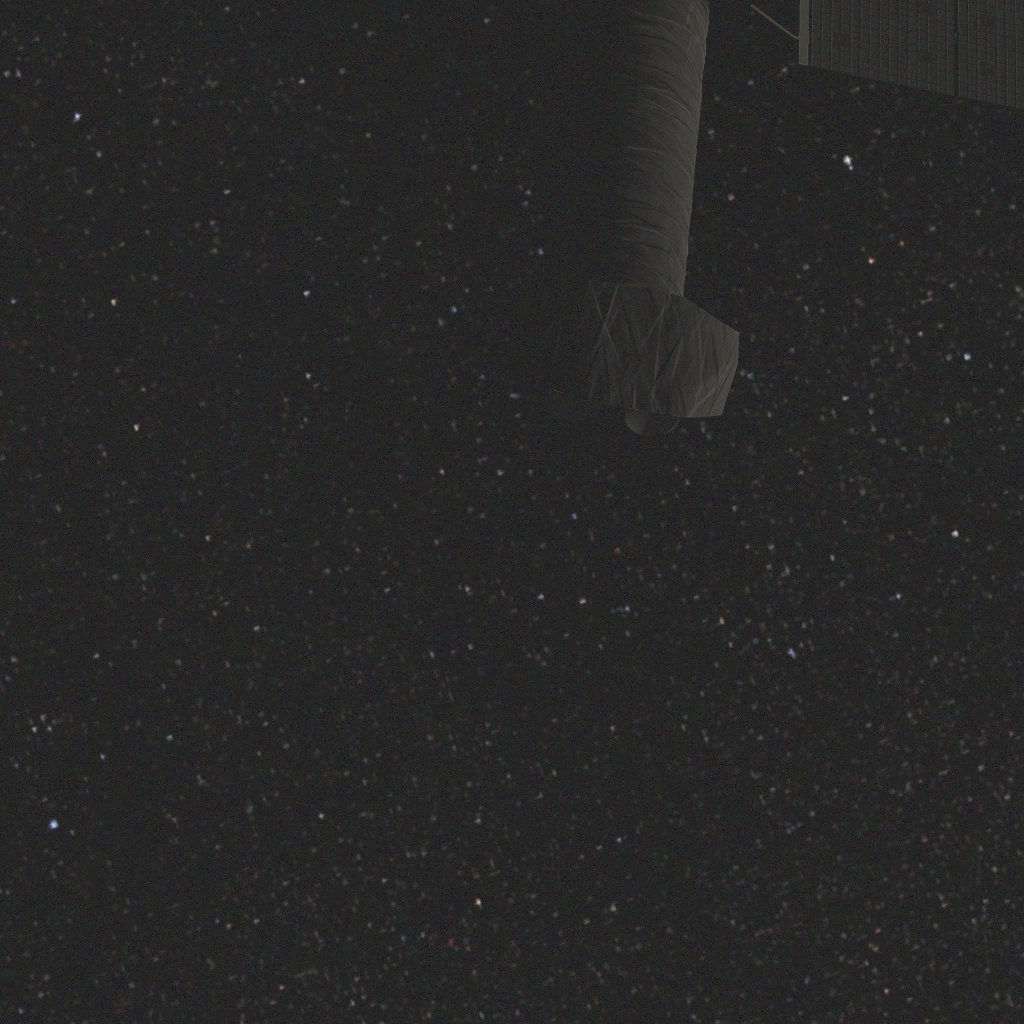xmm_newton: (493, 0, 1024, 468)
